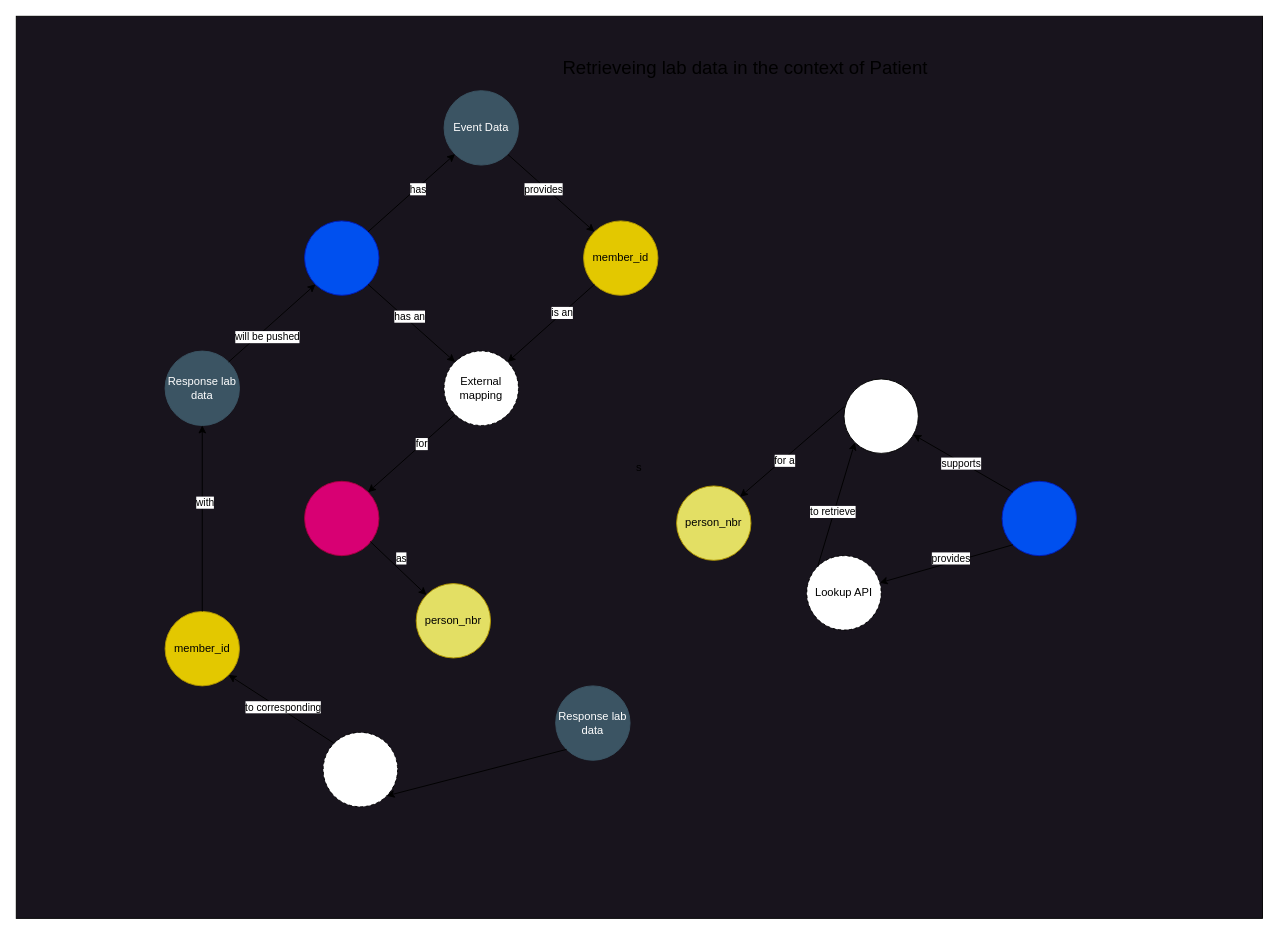
Image size: 1279x935. Some labels were removed from this diagram. Here are the shapes that lost their labels. From the top down, the box of each, then its label:
(304, 220, 379, 295): Portal
(843, 378, 918, 453): person_id
(304, 480, 379, 556): Practice member
(1001, 480, 1076, 556): NGE API
(322, 731, 398, 807): map
